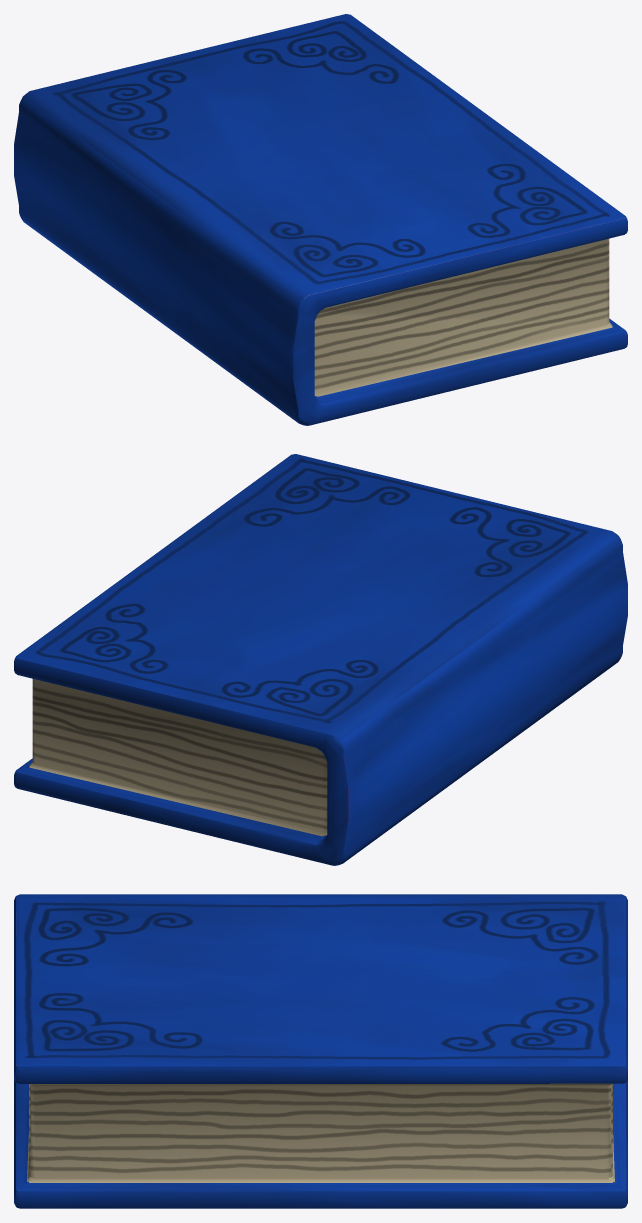
The model's file is blue_book.fbx.
3 renders of one model, top to bottom at view 1: azimuth 30°, elevation 25°; view 2: azimuth 150°, elevation 25°; view 3: azimuth 270°, elevation 25°, orthographic. The views are drawn at different scales.
Visible parts, largest first — view 1: Cube; view 2: Cube; view 3: Cube.
Boxes of the visible parts, x1,y1,x2,y2 form: Cube: (14, 14, 627, 425); Cube: (14, 454, 627, 865); Cube: (14, 894, 627, 1208).
Size of the model in its own units: 2083 by 786 by 3003.
1 material, 1 textured.
